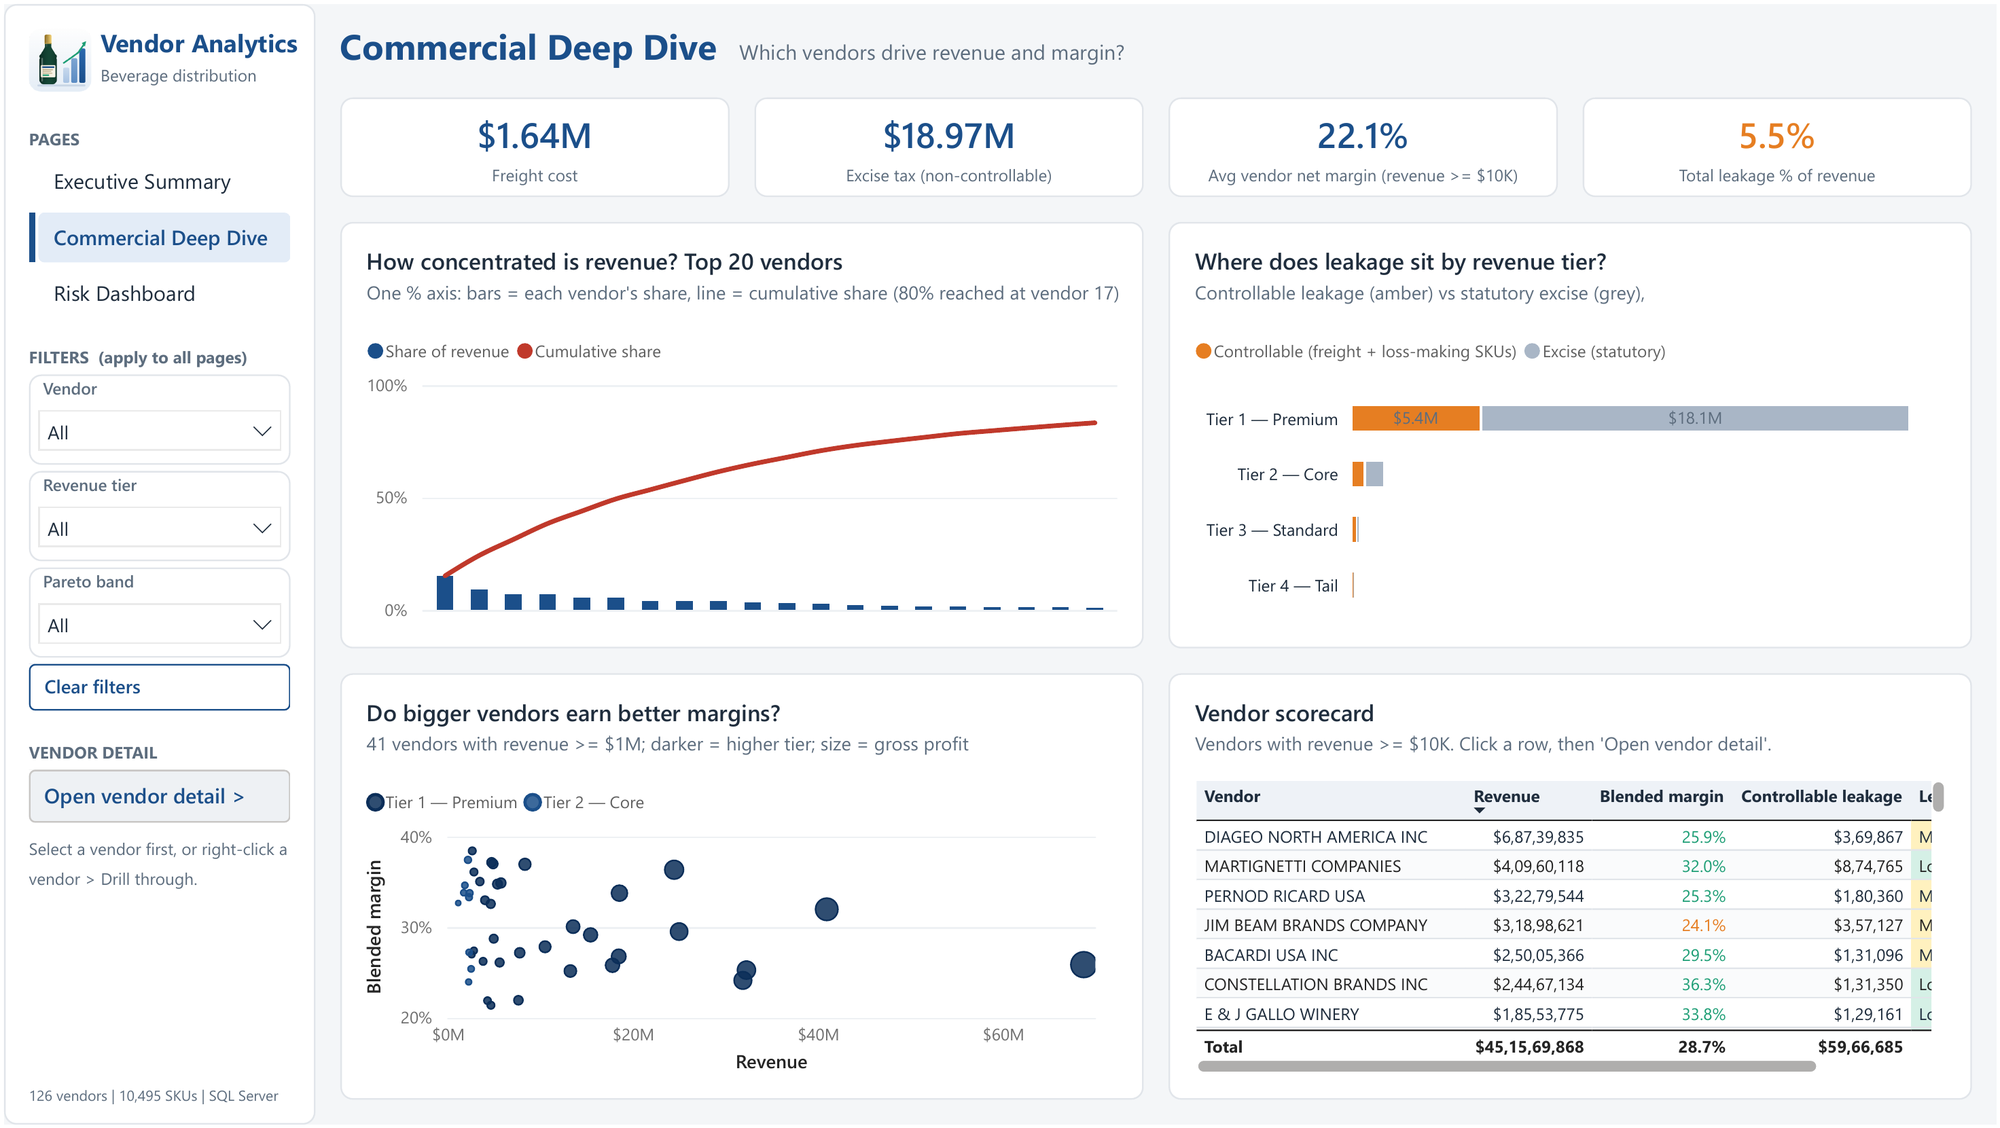

What the dashboard file says about the page in this screenshot:
{"tool":"powerbi","page":{"name":"Commercial Deep Dive","canvas":[1920,1080],"ordinal":1},"visuals":[{"type":"tableEx","title":"Vendor Commercial Summary","fields":{"Values":["vw_LogisticsCostSummary.VendorName","Sum(vw_LogisticsCostSummary.TotalRevenue)","Sum(vw_LogisticsCostSummary.TotalExciseTax)","Sum(vw_LogisticsCostSummary.TotalFreight)","Sum(vw_FullCostAnalysis.TotalGrossProfit)","Sum(vw_LogisticsCostSummary.TotalSKUs)","Vendor_Revenue.AvgMarginPct","Vendor_Tiering.TierLabel"]},"box":[1036,0,884,540],"z":0},{"type":"lineClusteredColumnComboChart","title":"Pareto Analysis - Revenue Concentration","fields":{"Category":["Pareto_Analysis.VendorName"],"Y":["_Revenue Measures.Total Revenue"],"Y2":["Sum(Pareto_Analysis.CumulativeRevenuePct)"]},"box":[0,196,1014,884],"z":1000},{"type":"card","fields":{"Values":["_Logistics and Cost Measures.Total Freight Cost"]},"box":[0,0,304,120],"z":2000},{"type":"card","fields":{"Values":["_Logistics and Cost Measures.Total Excise Tax"]},"box":[322,0,300,120],"z":3000},{"type":"card","fields":{"Values":["_Logistics and Cost Measures.Avg Net Margin After All Costs %"]},"box":[644,0,370,120],"z":4000},{"type":"decompositionTreeVisual","fields":{"Analyze":["_Commercial_Measures.Profit Leakage"],"ExplainBy":["Vendor_Tiering.TotalRevenue","Vendor_Tiering.TotalProfit","Vendor_Tiering.SKUCount","Vendor_Tiering.VendorName","Vendor_Tiering.AvgMargin"]},"box":[1036,562,884,518],"z":5000}]}

Visuals, with their boxes on the page's 1920x1080 design canvas (x1, y1, x2, y2). These are canvas units, not pixel positions in the 2000x1128 screenshot, which may show the page scaled, cropped or inside an application window:
"Vendor Commercial Summary" tableEx: detection(1036, 0, 1920, 540)
"Pareto Analysis - Revenue Concentration" lineClusteredColumnComboChart: detection(0, 196, 1014, 1080)
card - _Logistics and Cost Measures.Total Freight Cost: detection(0, 0, 304, 120)
card - _Logistics and Cost Measures.Total Excise Tax: detection(322, 0, 622, 120)
card - _Logistics and Cost Measures.Avg Net Margin After All Costs %: detection(644, 0, 1014, 120)
decompositionTreeVisual - _Commercial_Measures.Profit Leakage x Vendor_Tiering.TotalRevenue: detection(1036, 562, 1920, 1080)
